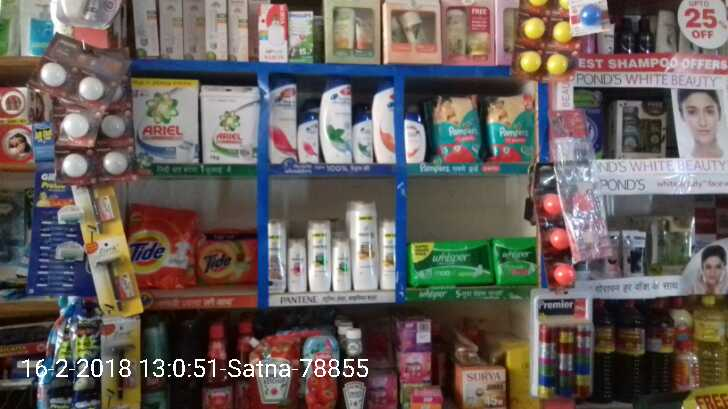beauty: (263, 73, 298, 165), (348, 194, 378, 294), (320, 78, 353, 163), (369, 86, 400, 163), (304, 215, 330, 293), (261, 218, 287, 292), (379, 220, 400, 292), (295, 110, 319, 164), (287, 235, 306, 294), (403, 116, 425, 166), (353, 114, 372, 163), (331, 234, 347, 287)
home: (125, 76, 198, 169), (122, 198, 195, 289), (198, 81, 261, 165), (195, 230, 253, 284)
pharmacy: (432, 90, 482, 169), (411, 234, 487, 282), (485, 89, 532, 165), (491, 236, 532, 282)
